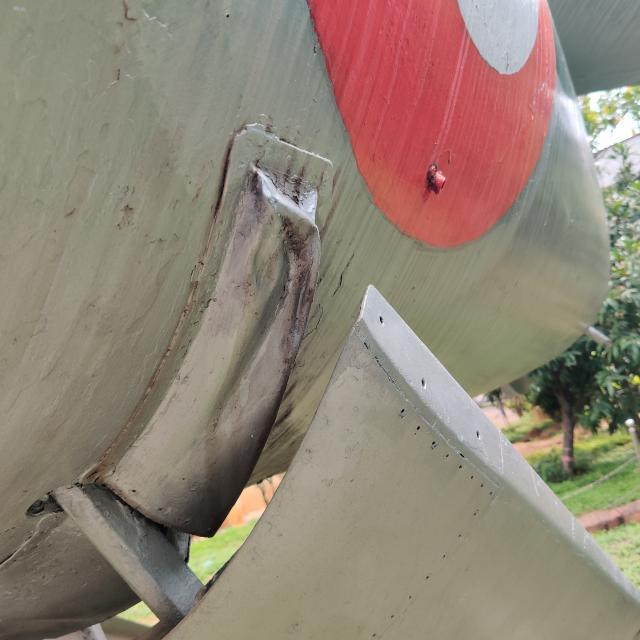dent: (179, 158, 346, 478)
